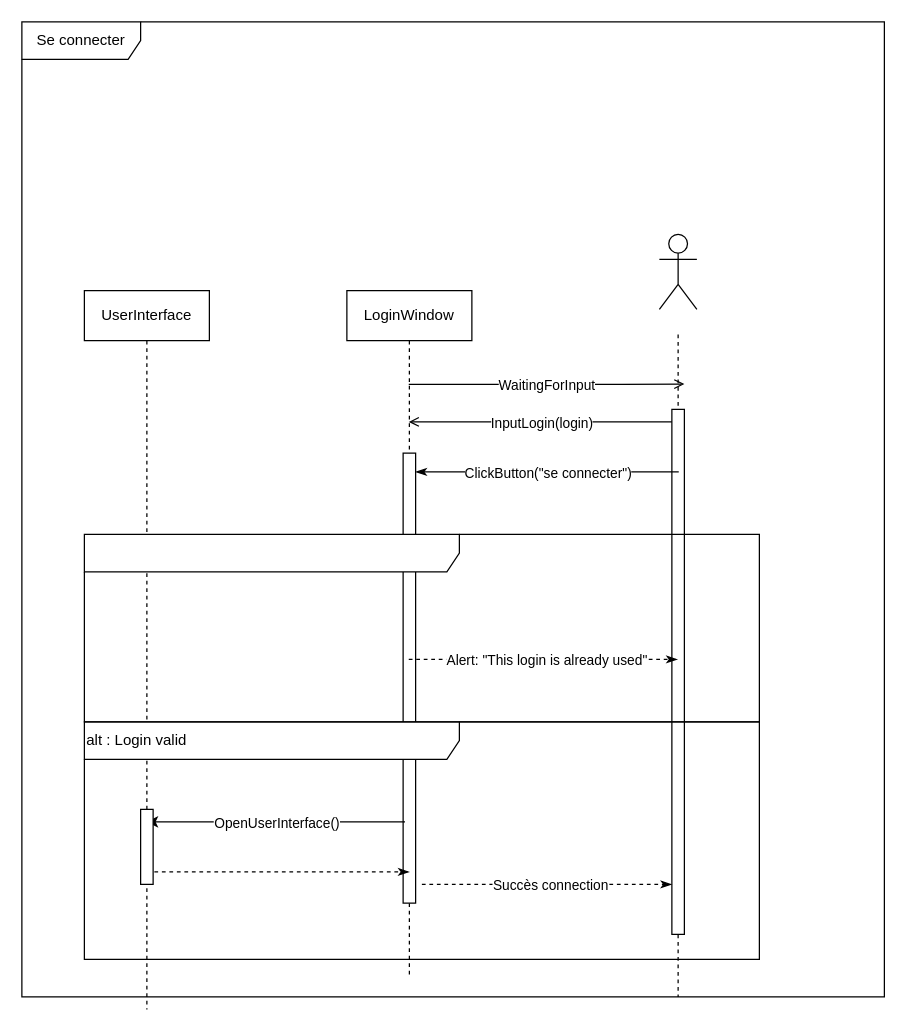
This 906x1031 diagram has some shape labels left out. Each missing label, with the centre of its shape:
"alt : Login alreday used" belongs at (x=421, y=627).
"User" belongs at (x=677, y=271).
